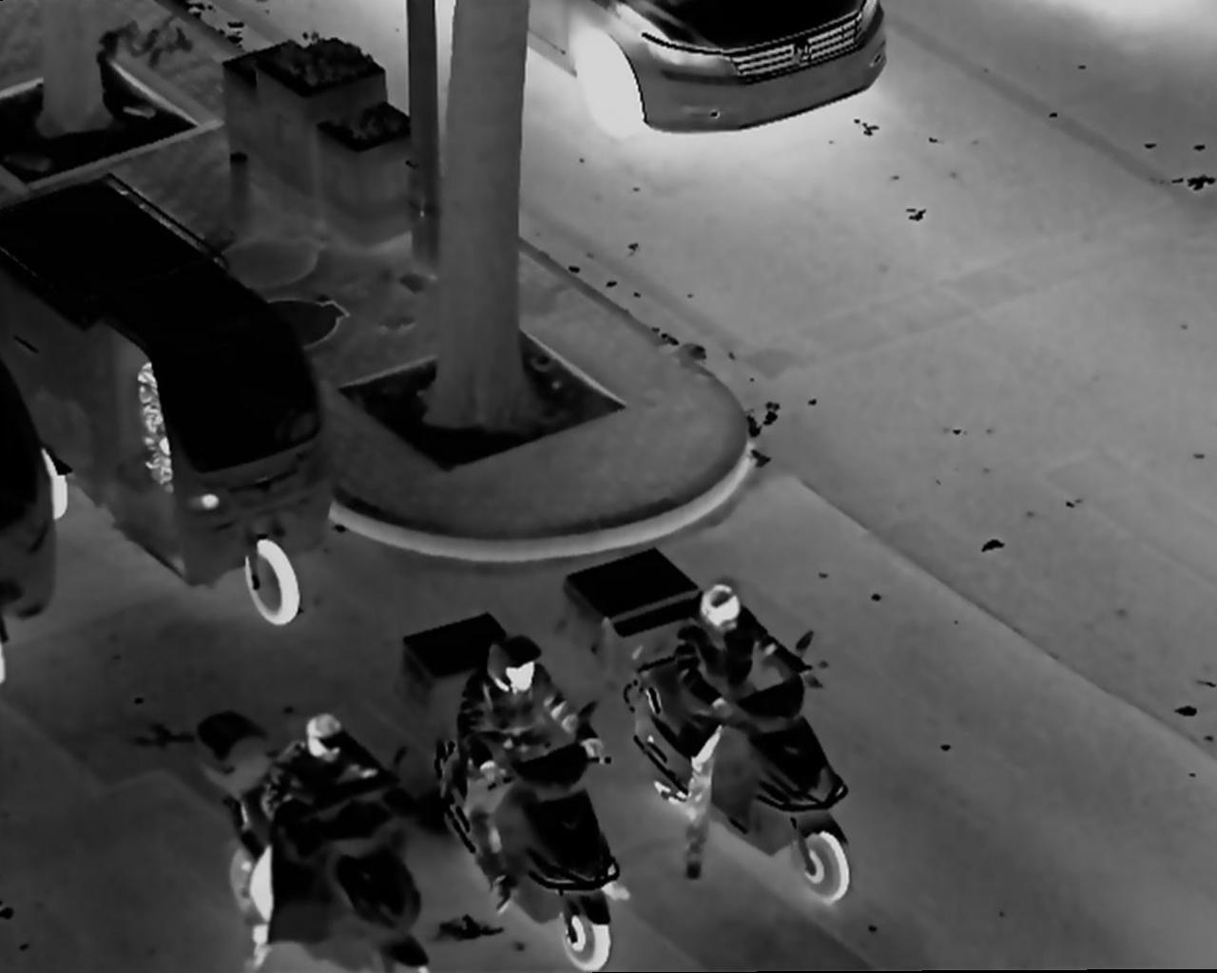person: (658, 582, 817, 887), (442, 635, 615, 911), (247, 707, 403, 973)
